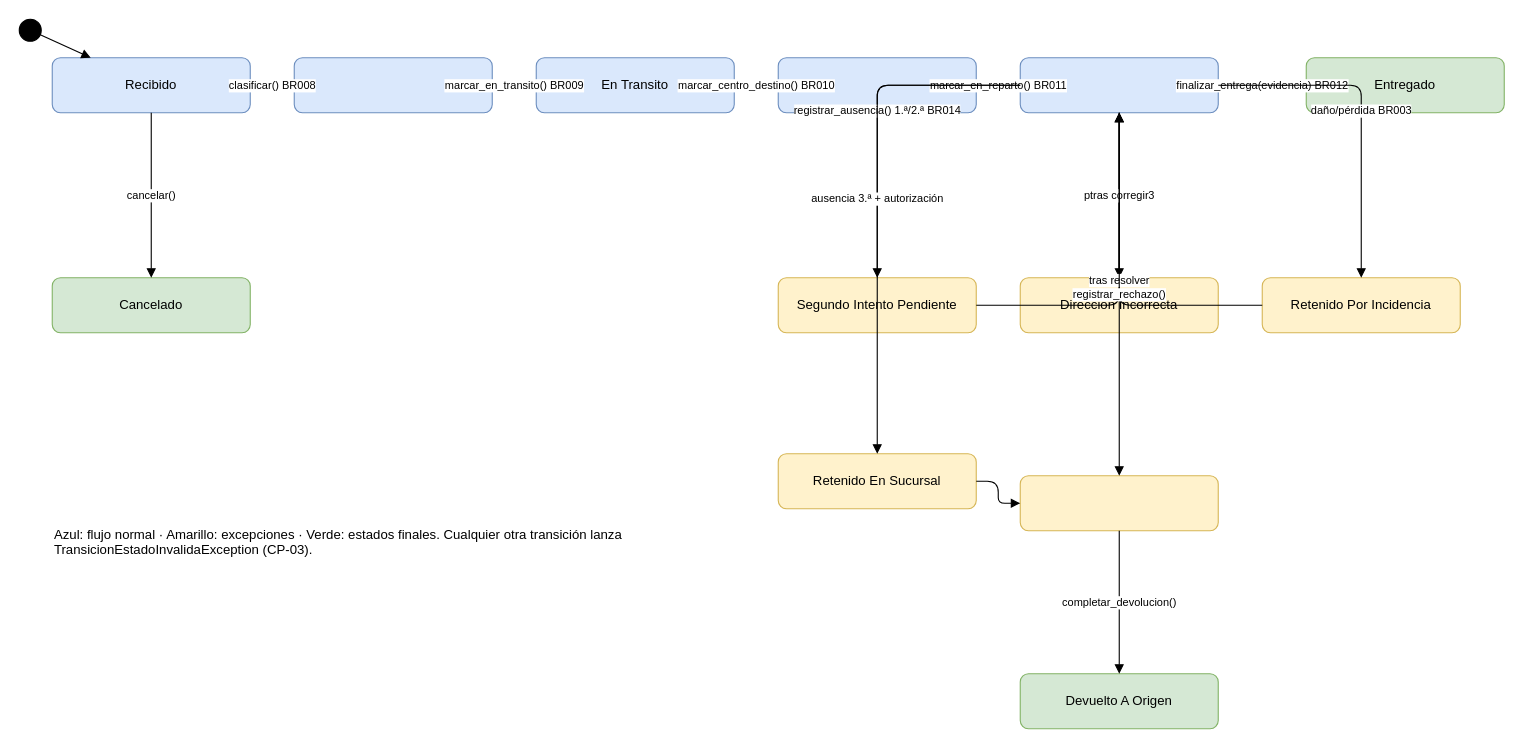
This 1524x748 diagram has some shape labels left out. The centre of each missing label's shape, as x and y in pixels:
"Centro Destino" belongs at point 876,85.
"Clasificado" belongs at point 392,85.
"En Reparto" belongs at point 1118,85.
"Rechazado En Devolucion" belongs at point 1118,503.
